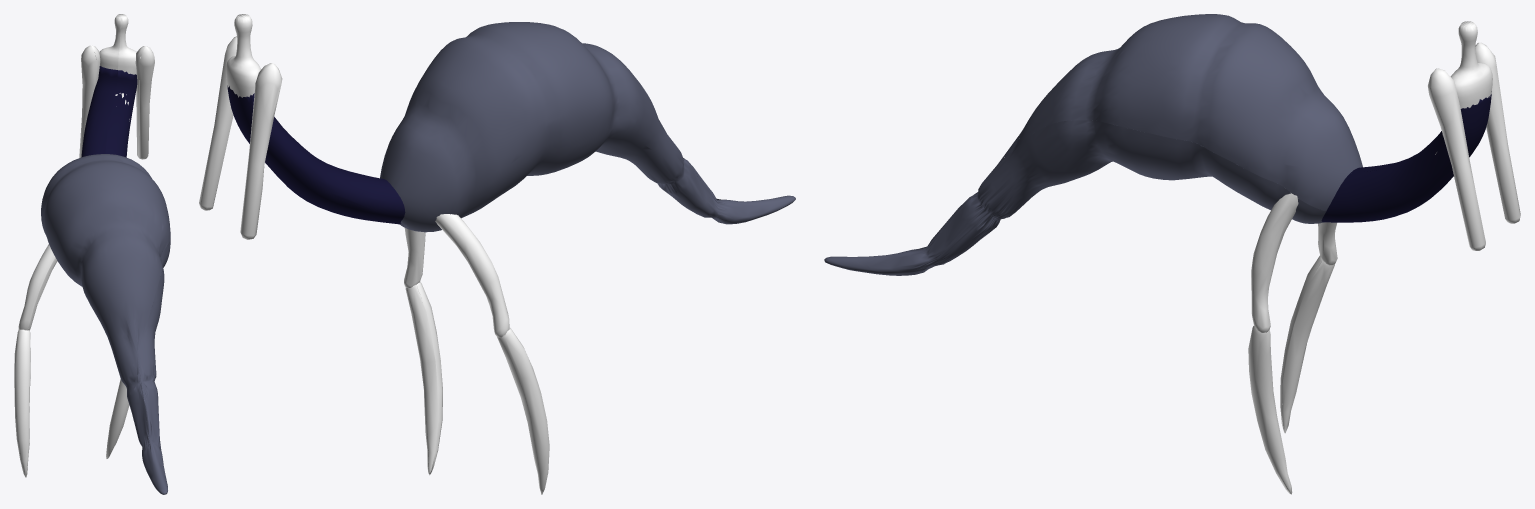
Rendered from hk_body_iselda.obj.
3 renders of one model, left to right at view 1: azimuth 30°, elevation 25°; view 2: azimuth 150°, elevation 25°; view 3: azimuth 270°, elevation 25°, orthographic. The views are drawn at different scales.
Visible parts, largest first — view 1: Object_55_TailIselda, Object_55_material_0, Object_55_HeadIselda, Object_55_Mesa; view 2: Object_55_TailIselda, Object_55_material_0, Object_55_HeadIselda, Object_55_Mesa; view 3: Object_55_TailIselda, Object_55_material_0, Object_55_HeadIselda, Object_55_Mesa.
Part boxes in pixels (x1,y1,x2,y2): Object_55_TailIselda: (41, 154, 170, 494); Object_55_material_0: (14, 244, 129, 477); Object_55_HeadIselda: (79, 14, 154, 159); Object_55_Mesa: (81, 66, 137, 157); Object_55_TailIselda: (380, 22, 795, 232); Object_55_material_0: (404, 214, 549, 494); Object_55_HeadIselda: (199, 14, 282, 239); Object_55_Mesa: (227, 85, 405, 224); Object_55_TailIselda: (824, 14, 1362, 275); Object_55_material_0: (1248, 193, 1337, 494); Object_55_HeadIselda: (1428, 21, 1520, 250); Object_55_Mesa: (1321, 91, 1491, 222).
Bounding box in the file's own units: 1.11 × 1.82 × 2.19.
